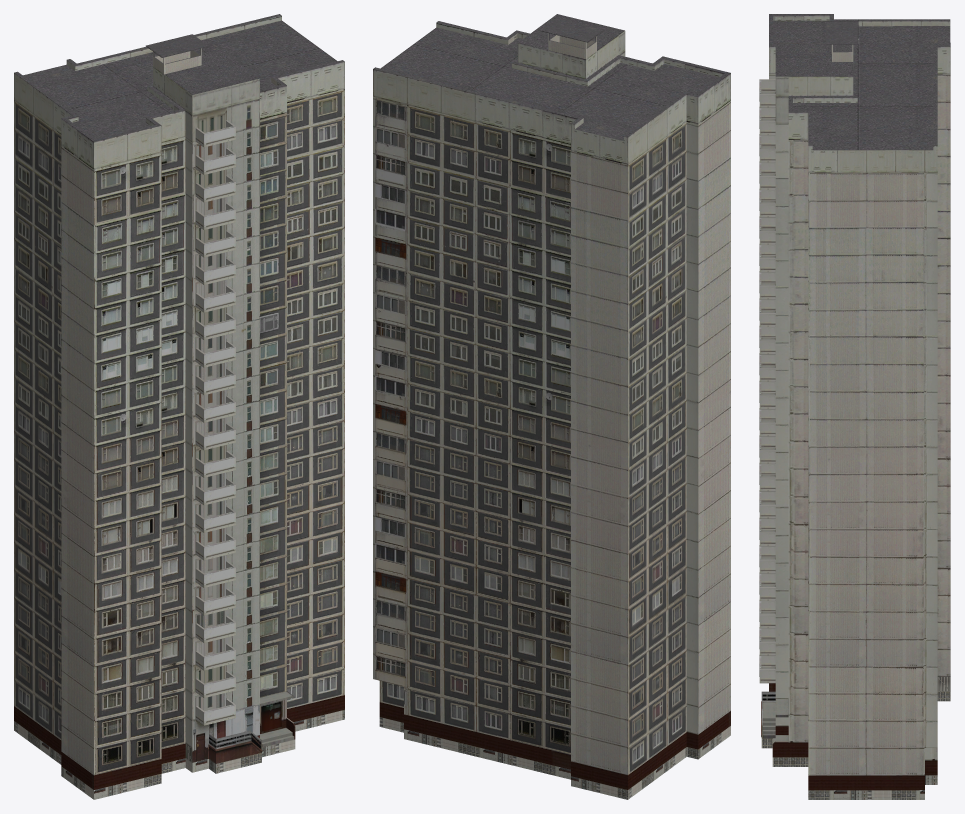
3 renders of one model, left to right at view 1: azimuth 30°, elevation 25°; view 2: azimuth 150°, elevation 25°; view 3: azimuth 270°, elevation 25°, orthographic.
Visible parts, largest first — view 1: 656411623.KOPE 80 Soviet Tenement; view 2: 656411623.KOPE 80 Soviet Tenement; view 3: 656411623.KOPE 80 Soviet Tenement.
Part boxes in pixels (x1,y1,x2,y2): 656411623.KOPE 80 Soviet Tenement: (14,14,344,799); 656411623.KOPE 80 Soviet Tenement: (373,14,730,799); 656411623.KOPE 80 Soviet Tenement: (759,14,950,799).
Bounding box in the file's own units: 28.8 × 70.95 × 17.7.
Materials: 1 (1 with a texture image).
